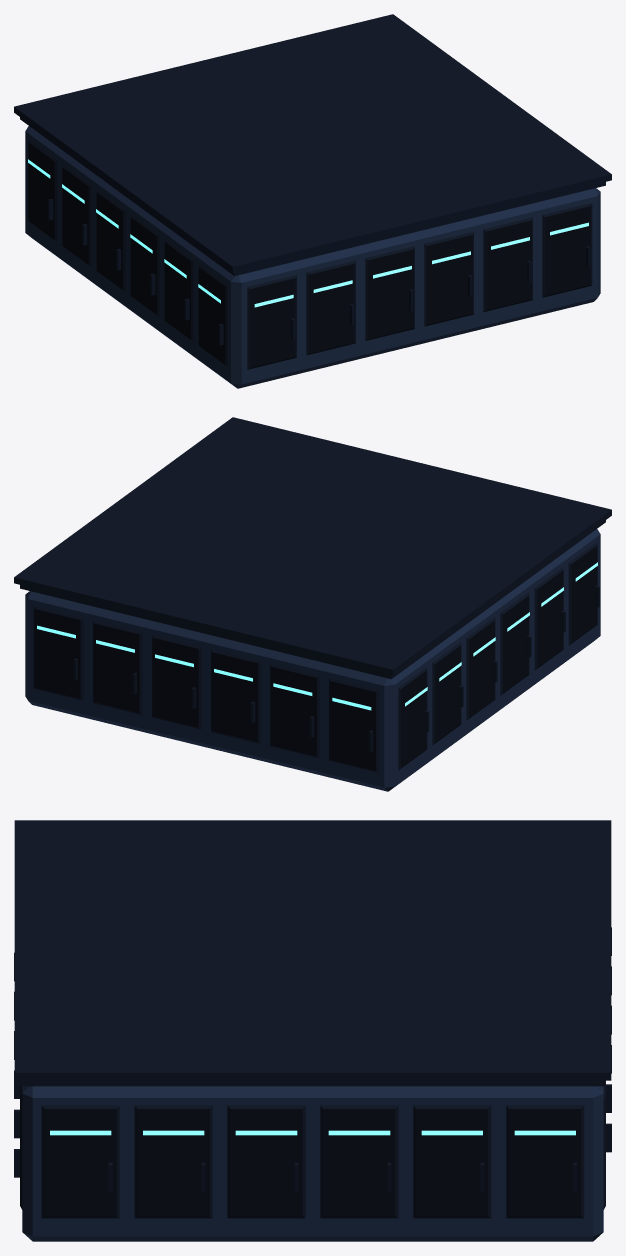
File: LowRack.fbx
The picture shows the model from 3 angles, top to bottom: view 1: azimuth 30°, elevation 25°; view 2: azimuth 150°, elevation 25°; view 3: azimuth 270°, elevation 25°; orthographic projection. The views are drawn at different scales.
Parts seen in each view (by area): view 1: KIT_LowRack_Mesh; view 2: KIT_LowRack_Mesh; view 3: KIT_LowRack_Mesh.
Boxes of the visible parts, x1,y1,x2,y2 form: KIT_LowRack_Mesh: (14,14,611,388); KIT_LowRack_Mesh: (14,417,611,791); KIT_LowRack_Mesh: (14,820,611,1241).
Size of the model in its own units: 3.99 by 1.3 by 3.99.
